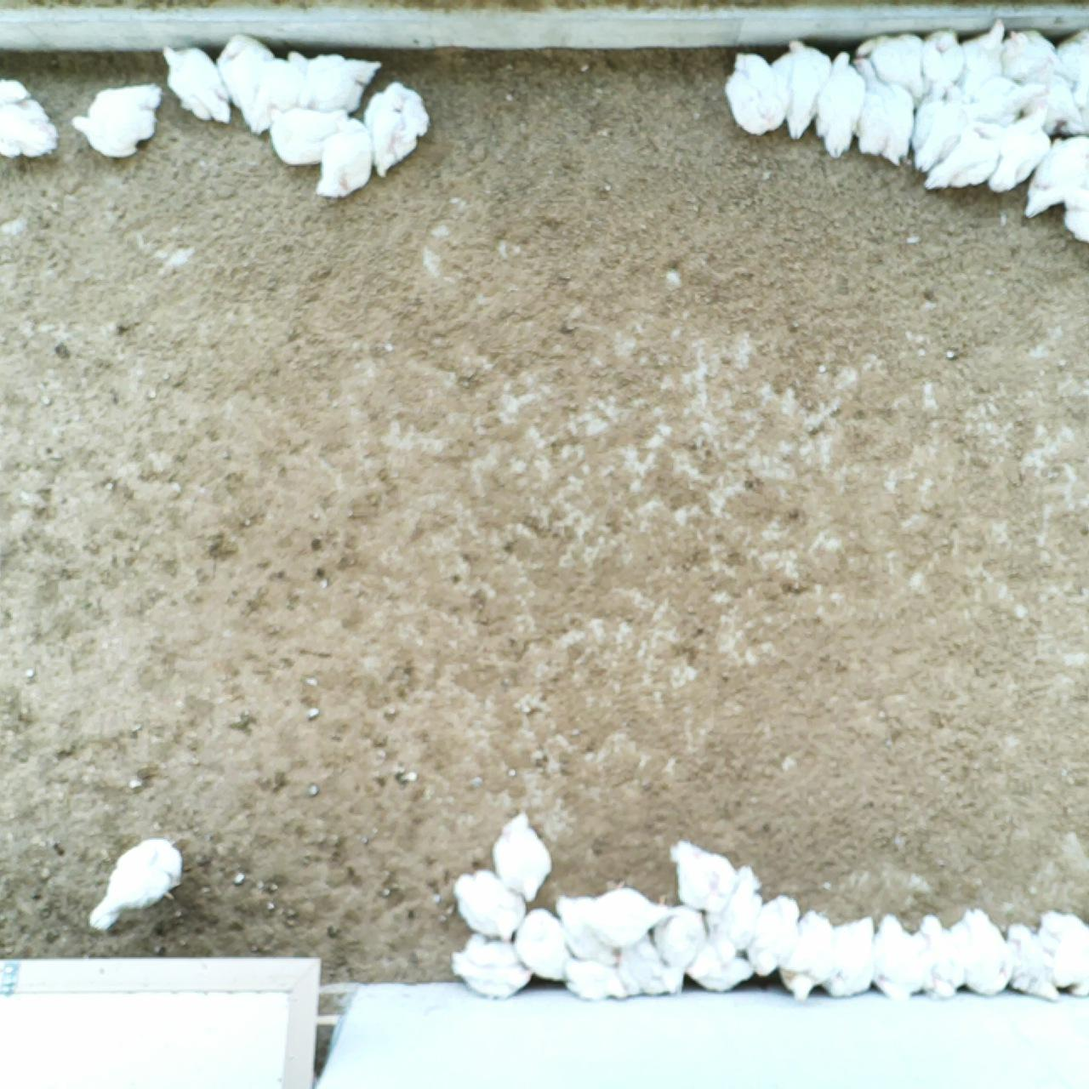chicken: (84, 832, 186, 933), (67, 80, 168, 162), (847, 53, 915, 170), (701, 859, 771, 964), (363, 78, 431, 183), (850, 22, 933, 105), (667, 833, 749, 917), (583, 876, 677, 948), (904, 78, 971, 179), (483, 807, 554, 902), (943, 905, 1013, 999), (779, 35, 838, 146), (286, 48, 385, 113), (160, 43, 232, 132), (513, 905, 591, 986), (447, 930, 534, 1002), (988, 105, 1055, 198), (308, 116, 378, 204), (1020, 135, 1089, 224), (720, 51, 791, 137), (924, 122, 1008, 194), (774, 912, 837, 1008), (269, 96, 352, 168), (231, 57, 305, 137), (551, 887, 620, 971), (813, 49, 864, 161), (864, 911, 923, 1006), (450, 867, 530, 937), (821, 916, 885, 1002), (746, 891, 809, 977), (997, 918, 1060, 1003), (0, 77, 62, 163), (910, 74, 964, 172), (1033, 908, 1089, 1002), (610, 933, 690, 998), (908, 915, 968, 998), (1016, 68, 1089, 134), (215, 33, 274, 113), (960, 74, 1046, 128), (561, 946, 631, 1011), (650, 899, 717, 965), (683, 938, 755, 998), (1003, 26, 1067, 87), (959, 14, 1011, 87), (919, 26, 967, 101), (1048, 23, 1089, 80), (1060, 181, 1089, 249), (1068, 73, 1089, 143)
